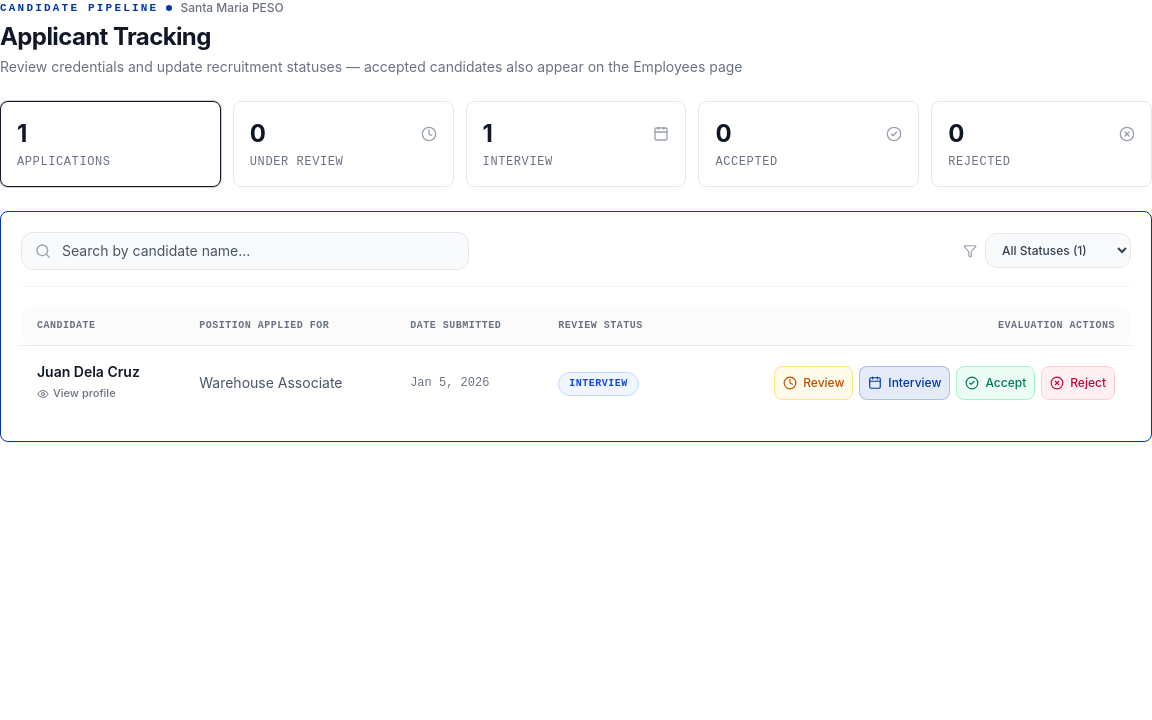
Test: Applicants interview instruction presets › keeps the toggle when the applicant is already at Interview
The width and height of the screenshot is (1152, 720).
Step 1. Click the button titled "Schedule an interview" → [905, 383], box x1=859 y1=366 x2=950 y2=400
(page scrolled)
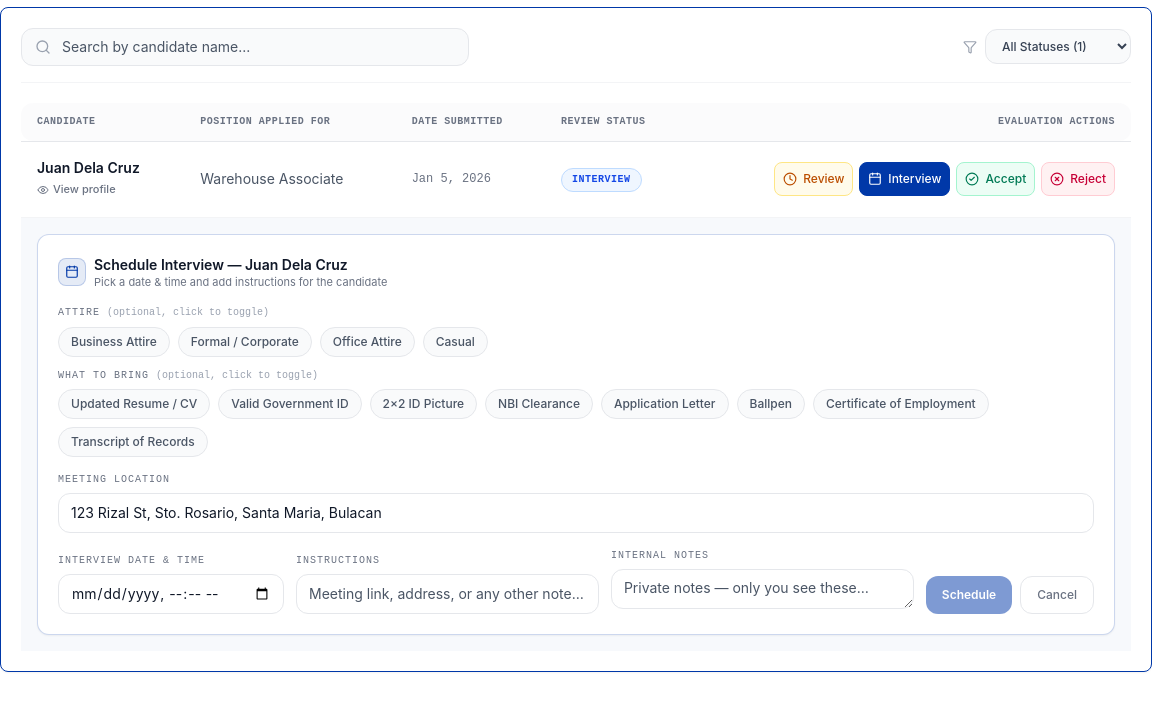
Now the field labelled "Interview Date & Time" is shown, box x1=58 y1=574 x2=284 y2=614
